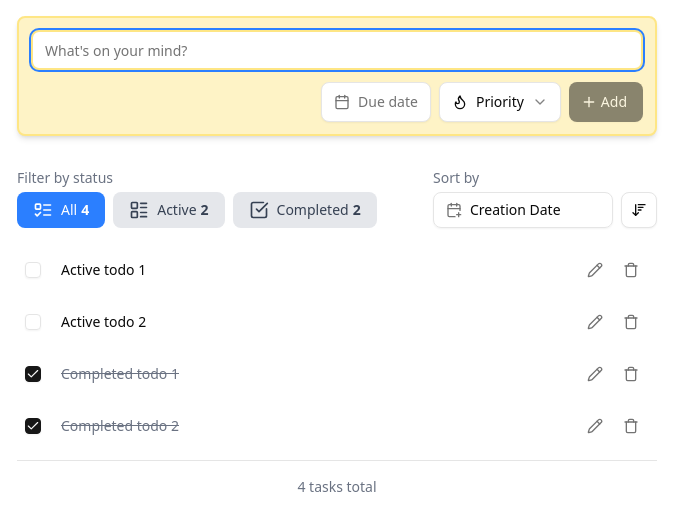
Test: TodoContainer - Filtering › should only display active todos when Active filter is applied
The image size is (675, 509).
// act is needed here because clicking the filter triggers state updates
Click the button with aria-label "show active todos": click(169, 210) [113,192,225,228]
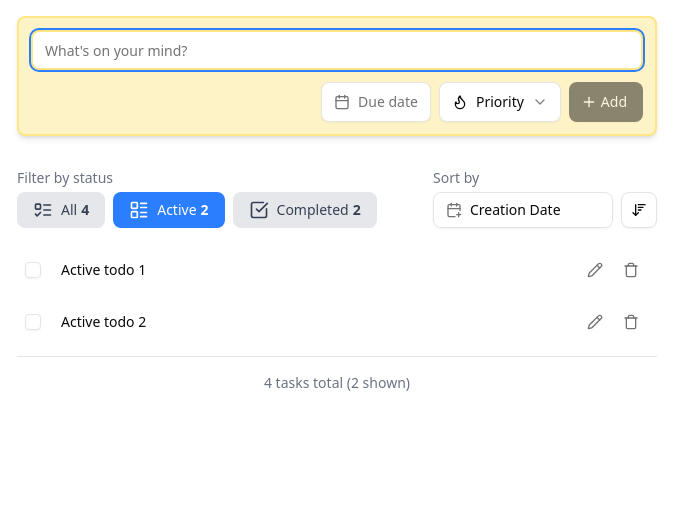
Now the button "Completed todo 1" is gone
Now the button "Completed todo 2" is gone
Now the text "4 tasks total (2 shown)" is shown, box [264,373,410,392]
